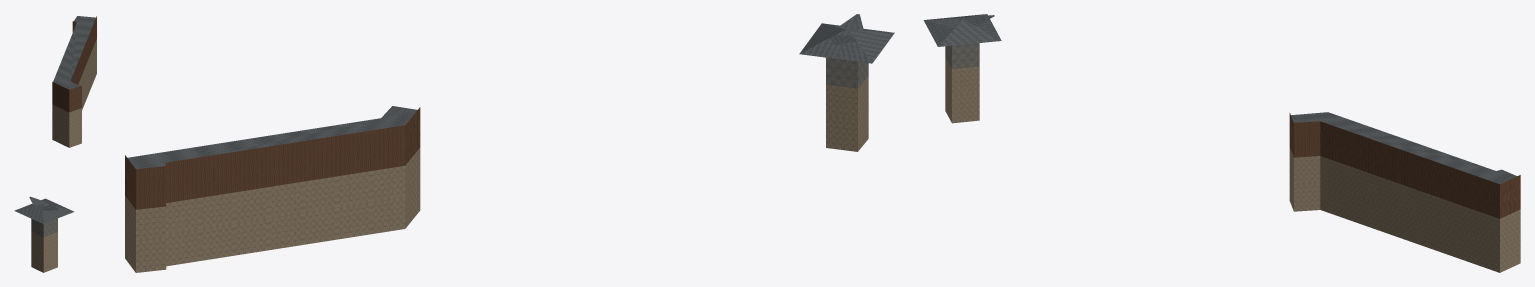
File: bld_c1_-1_533.gltf
3 renders of one model, left to right at view 1: azimuth 30°, elevation 25°; view 2: azimuth 150°, elevation 25°; view 3: azimuth 270°, elevation 25°, orthographic. The views are drawn at different scales.
Visible parts, largest first — view 1: bld_c1_-1_533; view 2: bld_c1_-1_533; view 3: bld_c1_-1_533.
Part boxes in pixels (x1,y1,x2,y2): bld_c1_-1_533: (14, 16, 96, 272); bld_c1_-1_533: (125, 14, 894, 272); bld_c1_-1_533: (923, 14, 1520, 272).
Bounding box in the file's own units: 33.77 × 8.58 × 45.64.
5 materials, 5 textured.
